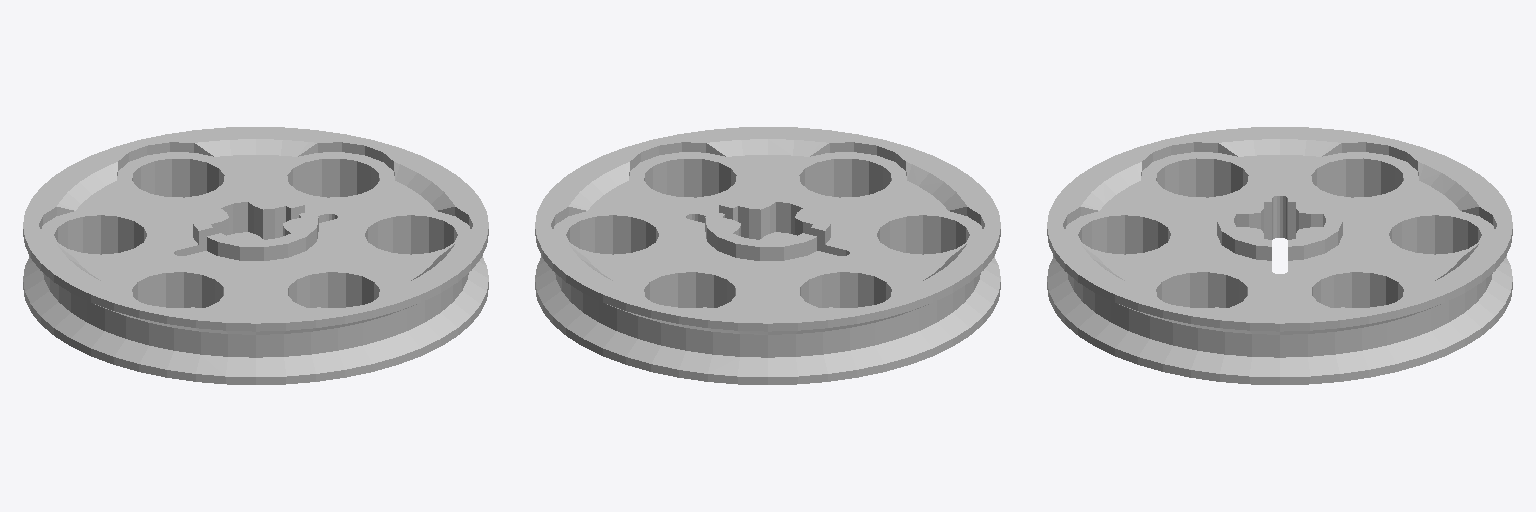
The model's file is Piece020.obj.
3 renders of one model, left to right at view 1: azimuth 30°, elevation 25°; view 2: azimuth 150°, elevation 25°; view 3: azimuth 270°, elevation 25°, orthographic.
Visible parts, largest first — view 1: Piece000; view 2: Piece000; view 3: Piece000.
Part boxes in pixels (x1,y1,x2,y2): Piece000: (23, 127, 488, 384); Piece000: (535, 127, 1000, 384); Piece000: (1047, 127, 1512, 384).
Size of the model in its own units: 60 by 10 by 60.